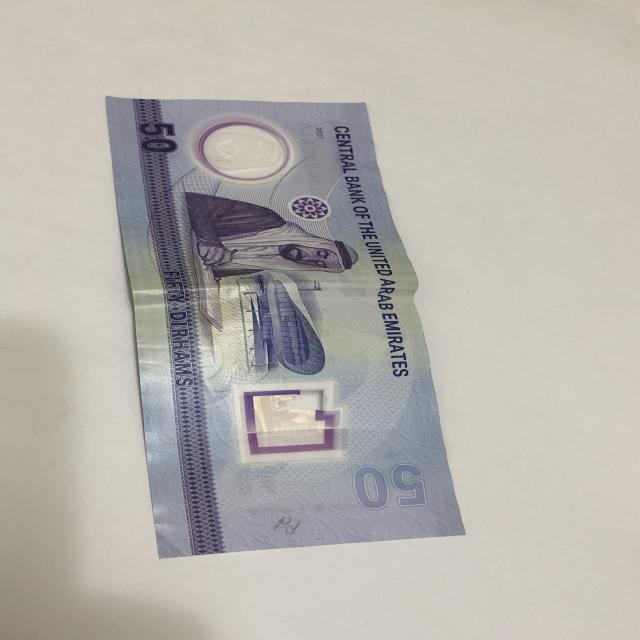50_AED: (101, 93, 477, 567)
